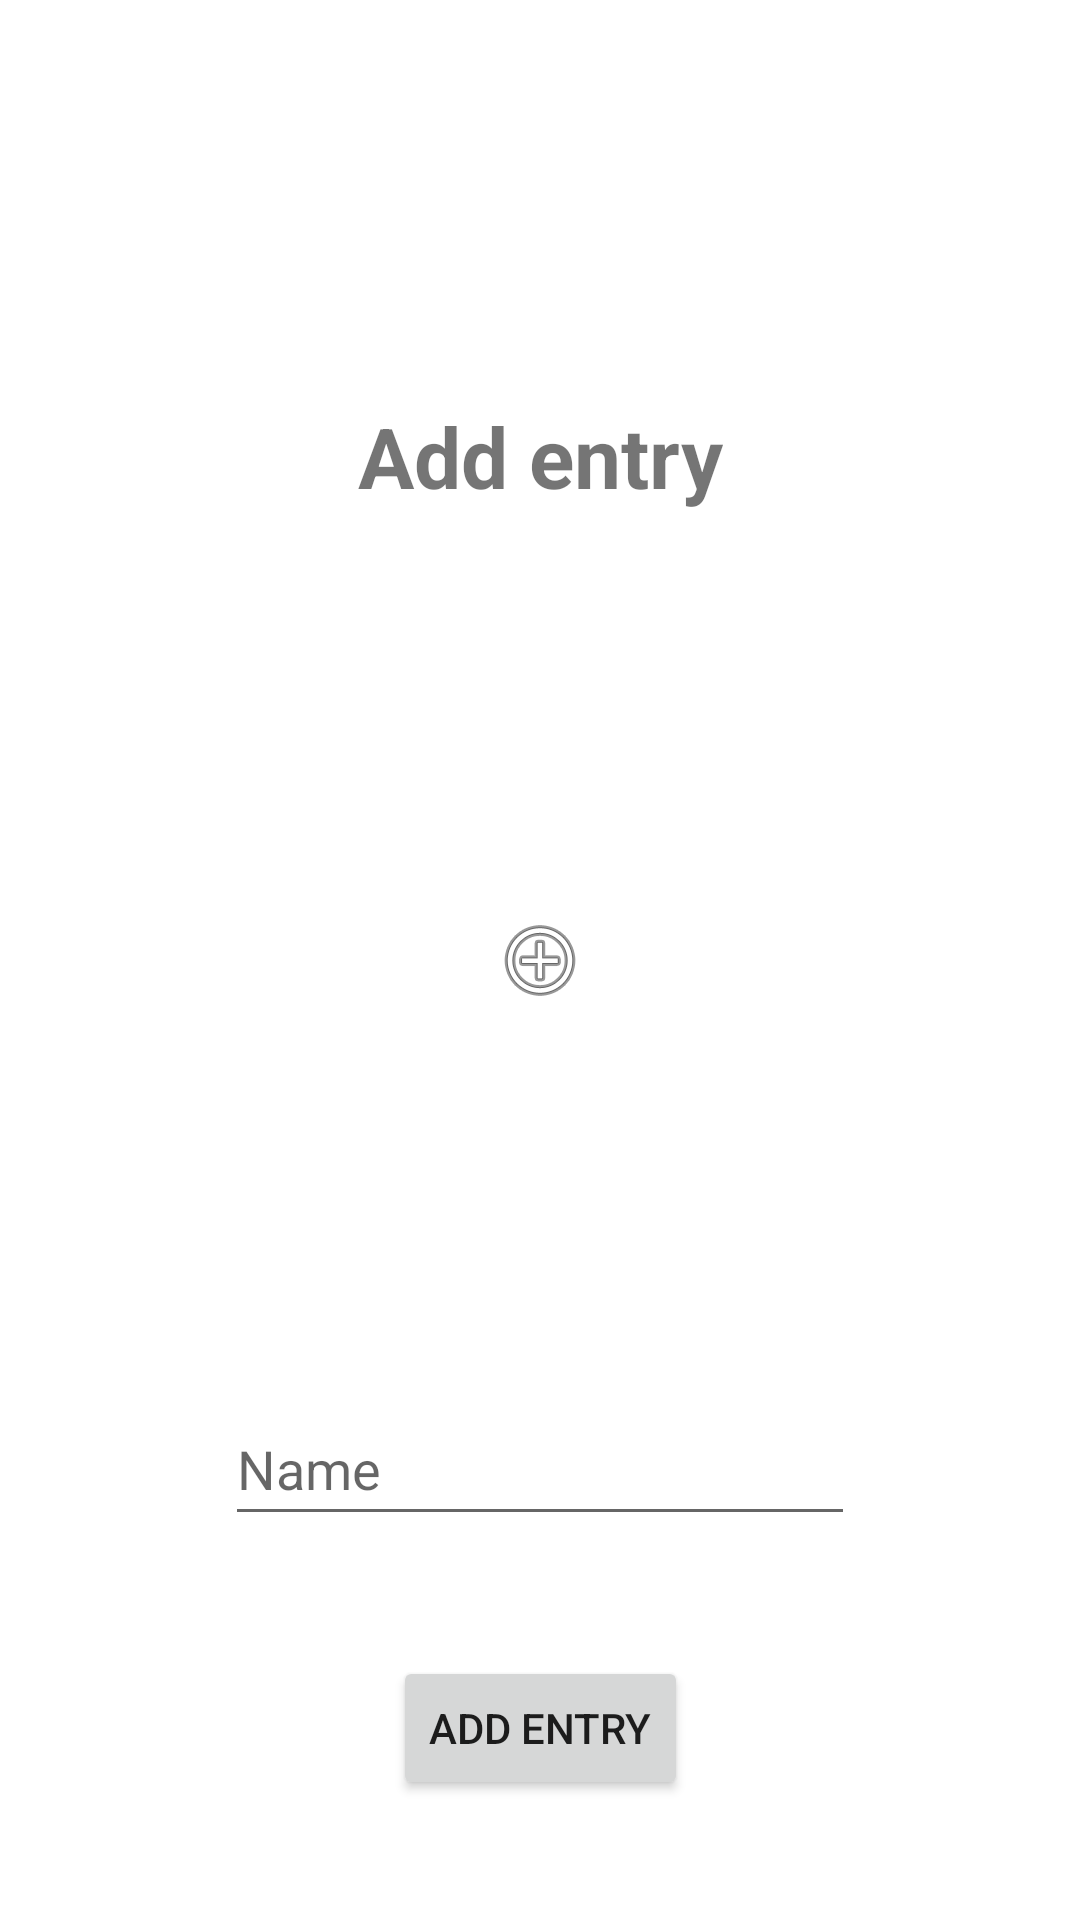

Screen size 1080w x 1920h. Icon name, then its box in pixels as (x1, y1, x2, y2):
add: (504, 925, 576, 996)
